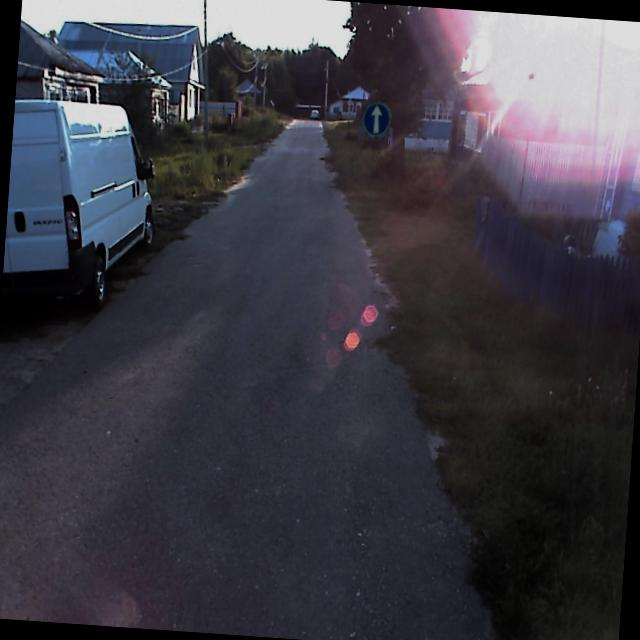road: (0, 116, 489, 640)
